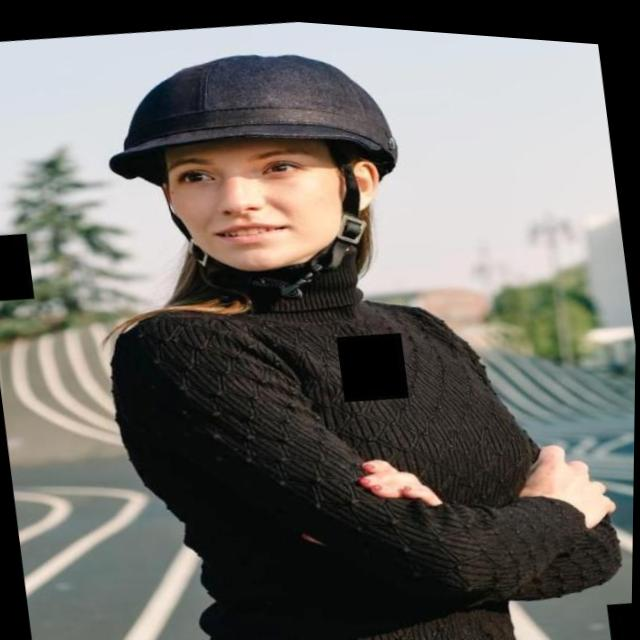helmet: (92, 20, 421, 329)
